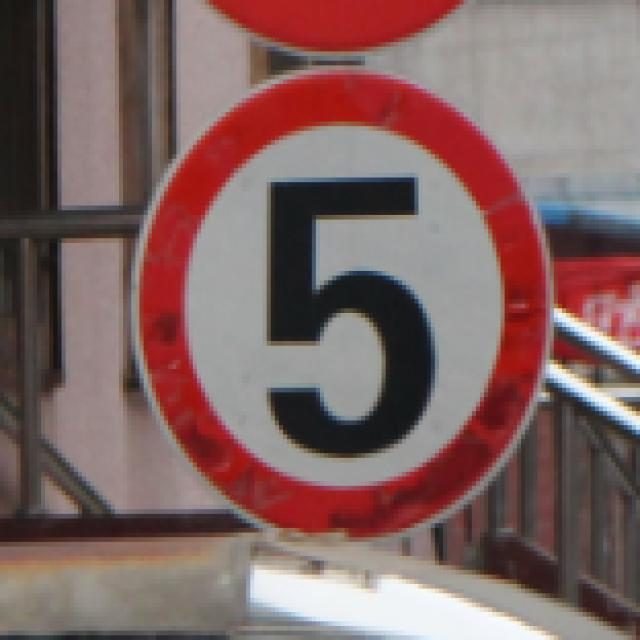Speed: (117, 61, 564, 557)
